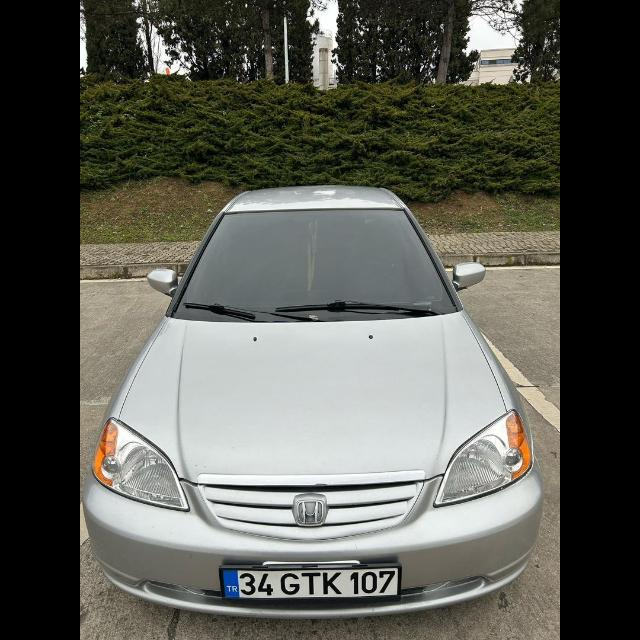Plaka: (226, 567, 400, 597)
